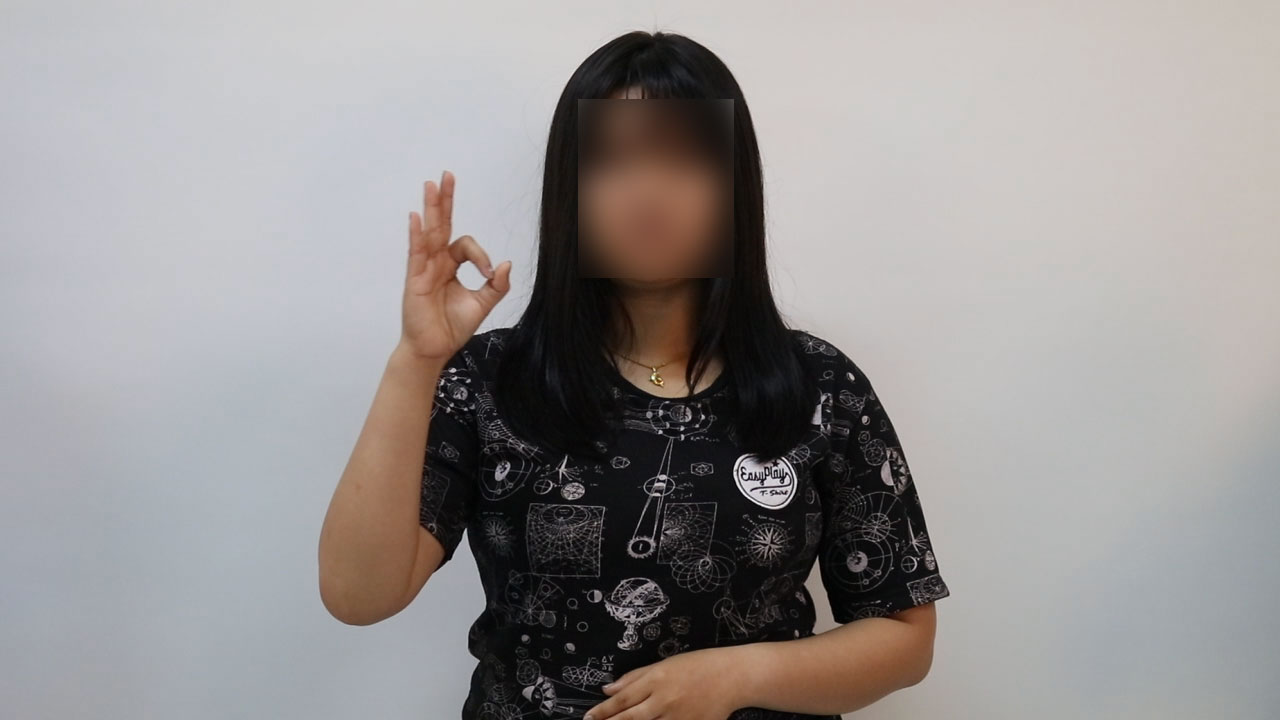for: (373, 160, 517, 375)
